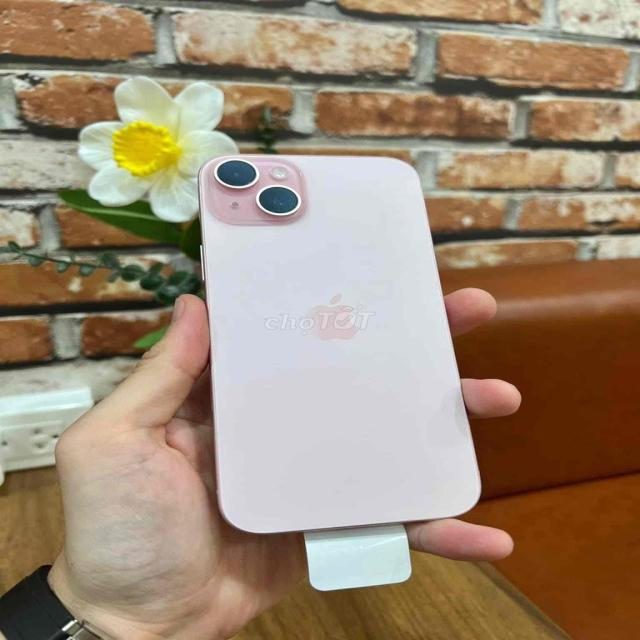gen_12_13: (180, 152, 490, 534)
